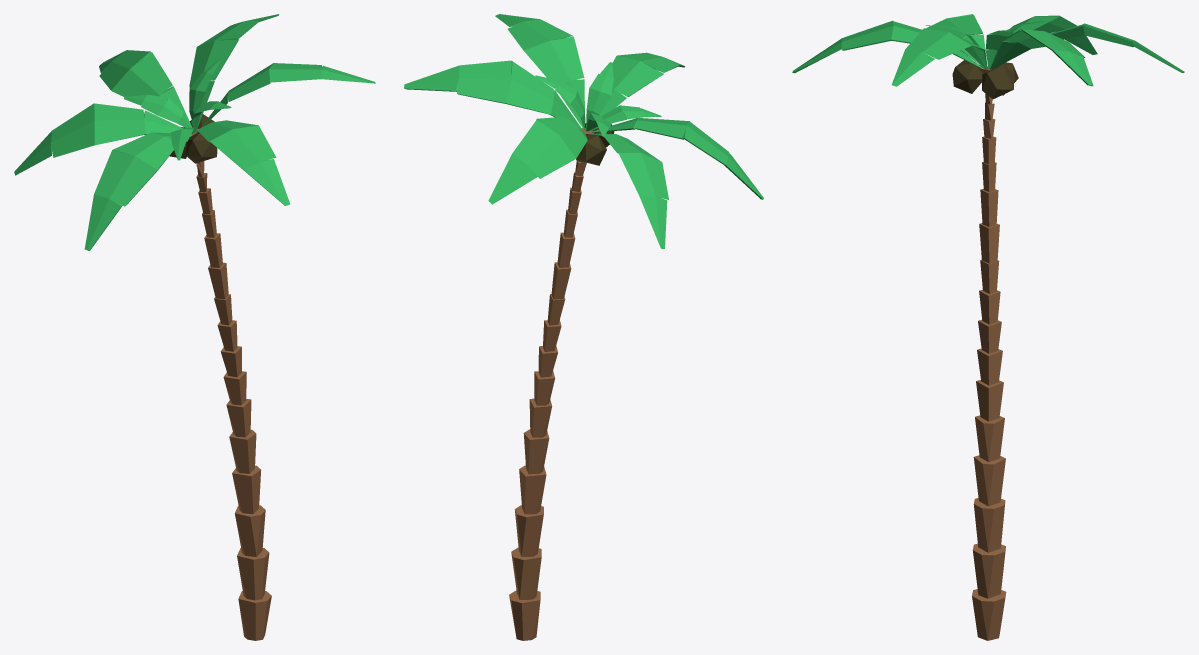
Rendered from Palm_Tree_C.fbx.
The picture shows the model from 3 angles, left to right: view 1: azimuth 30°, elevation 25°; view 2: azimuth 150°, elevation 25°; view 3: azimuth 270°, elevation 25°; orthographic projection. The views are drawn at different scales.
Parts seen in each view (by area): view 1: Palm_Tree_C; view 2: Palm_Tree_C; view 3: Palm_Tree_C.
Boxes of the visible parts, bbox=[...] form: Palm_Tree_C: bbox=[14, 14, 375, 640]; Palm_Tree_C: bbox=[404, 14, 763, 640]; Palm_Tree_C: bbox=[792, 14, 1184, 640].
Bounding box in the file's own units: 300 × 603 × 353.
